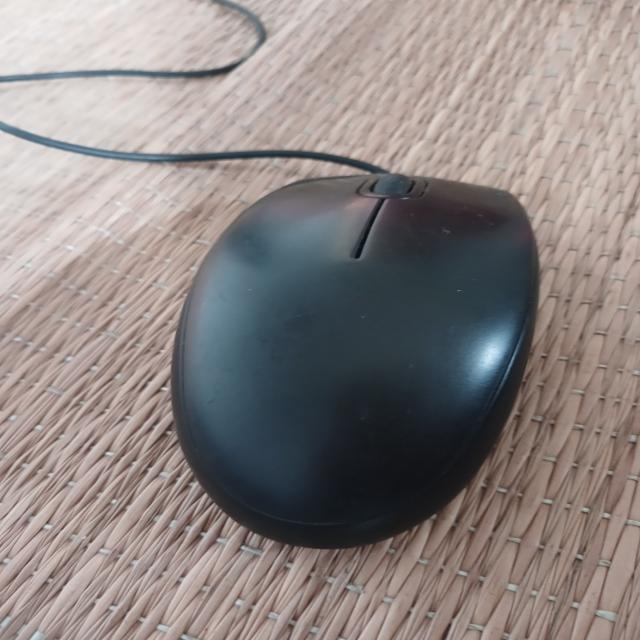mouse: (157, 168, 552, 552)
